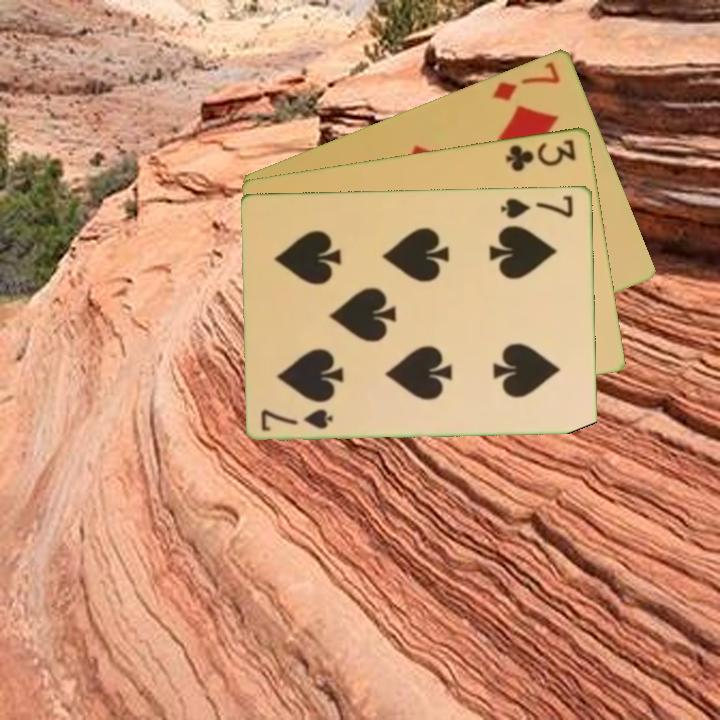3c: (502, 135, 580, 174)
7d: (489, 57, 563, 104)
7s: (498, 192, 576, 221), (258, 405, 336, 434)
